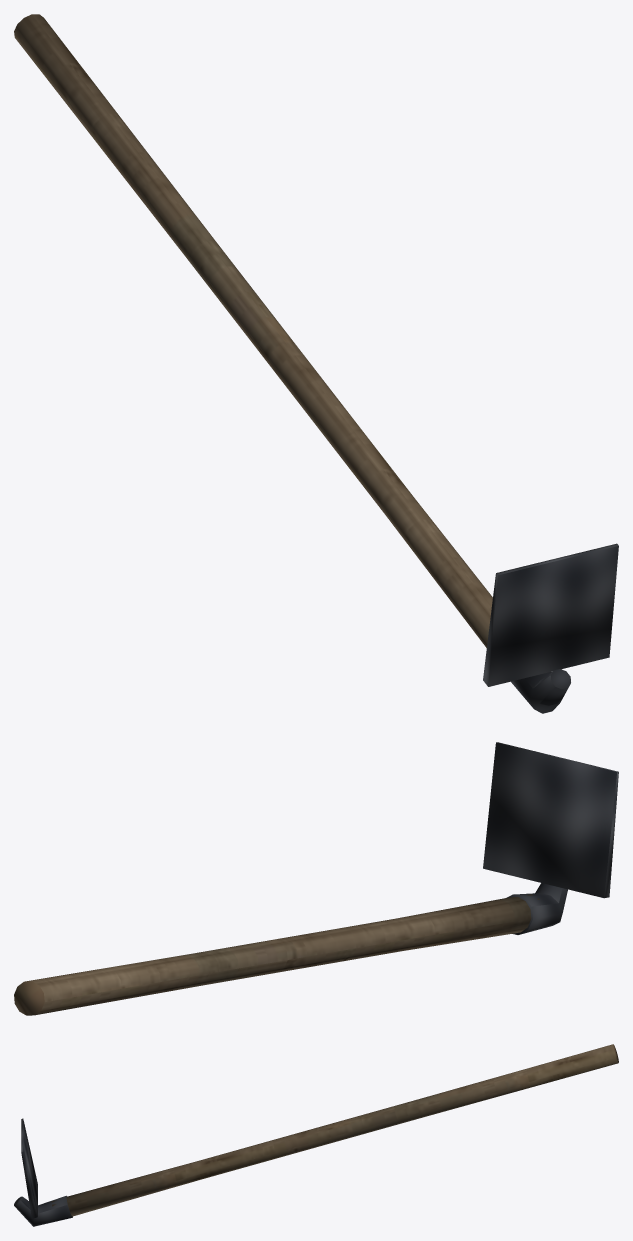
File: azada.glb
3 views of the same model, one above another, from view 1: azimuth 30°, elevation 25°; view 2: azimuth 150°, elevation 25°; view 3: azimuth 270°, elevation 25° (orthographic). The views are drawn at different scales.
Parts seen in each view (by area): view 1: azada; view 2: azada; view 3: azada.
Part boxes in pixels (x1,y1,x2,y2): azada: (14, 14, 618, 713); azada: (14, 742, 618, 1015); azada: (14, 1044, 618, 1226).
Size of the model in its own units: 0.15 by 0.3794 by 1.15.
2 materials, 2 textured.
